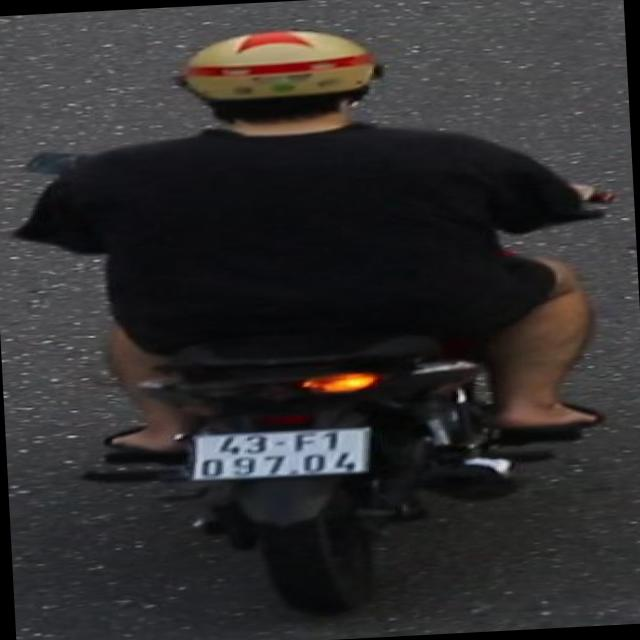LP: (176, 422, 382, 490)
helmet: (168, 21, 392, 142)
